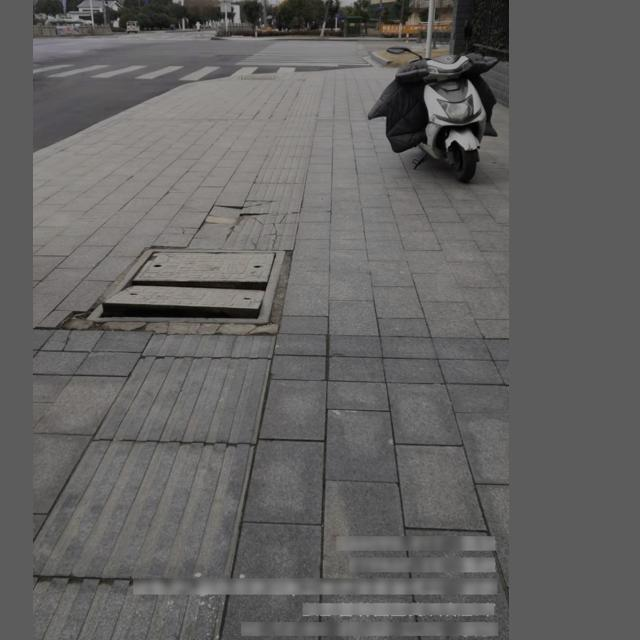uncovered: (86, 246, 288, 328)
